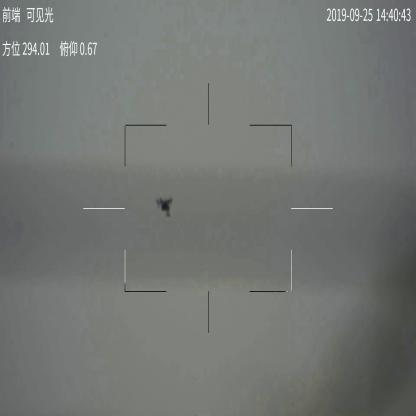uav: (153, 194, 175, 220)
